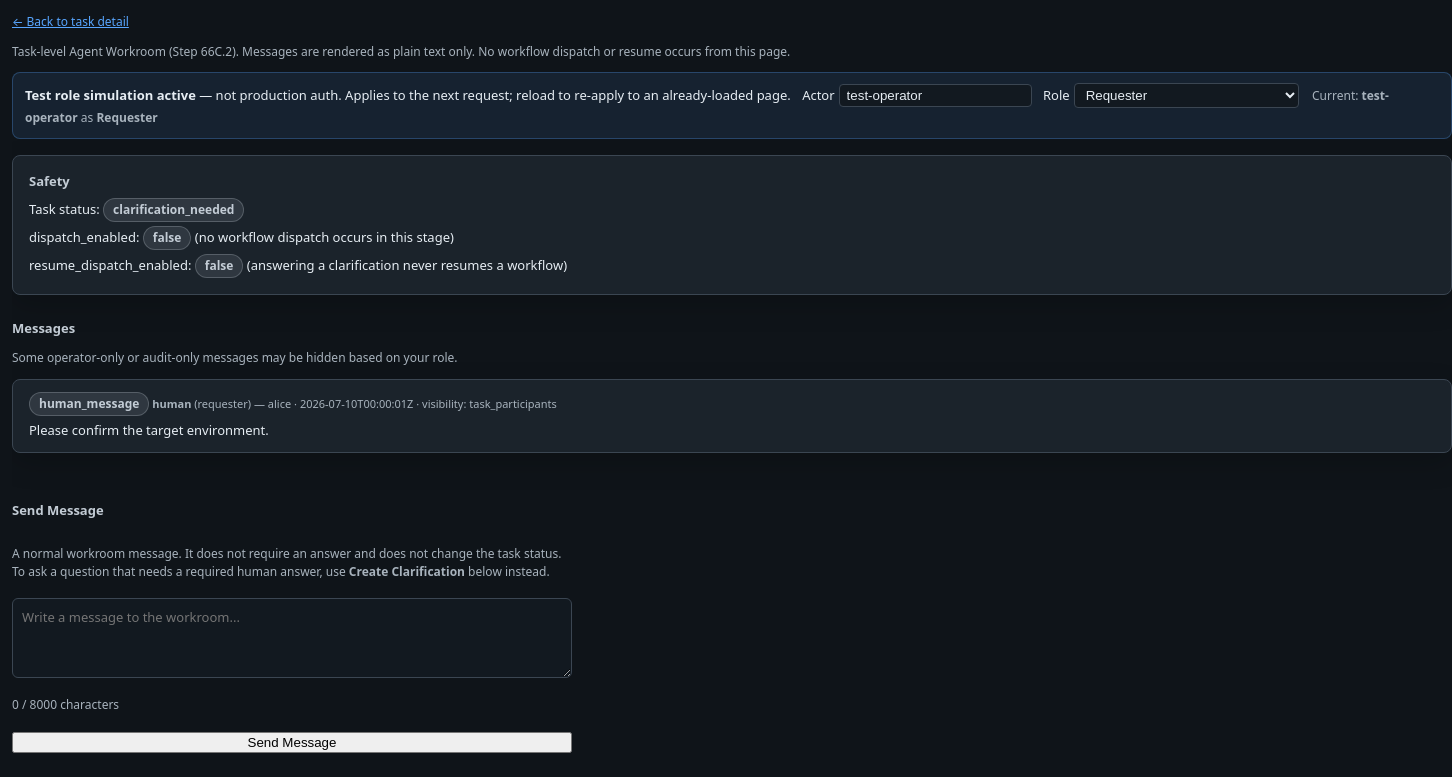
Scenario: Message composer › requires a non-empty body before posting
Expected: the element with test id "workroom-composer" is shown, [12,477,572,753]
Click the button with test id "workroom-post-message" at (292, 742), box [12,732,572,752]
(page scrolled)
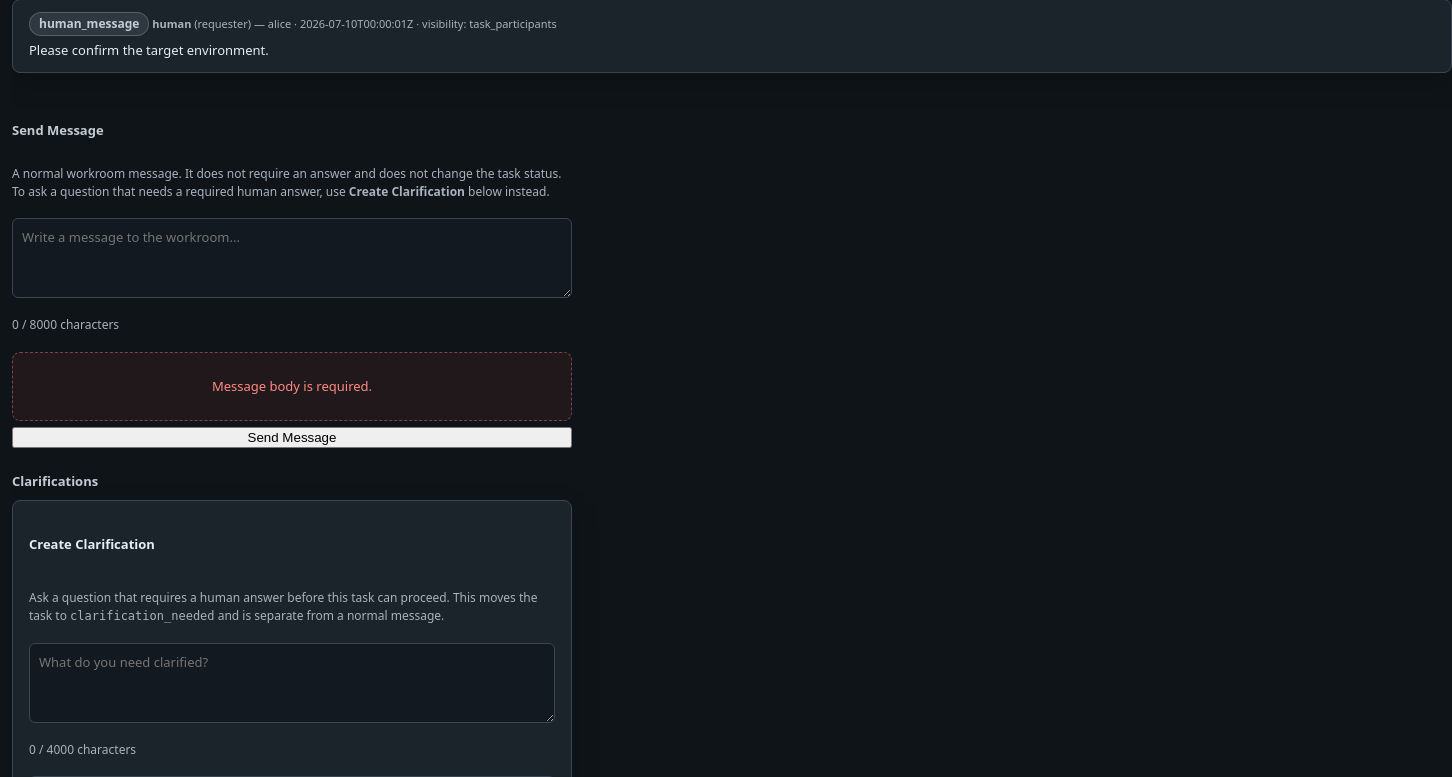
Expected: the text "Message body is required." is shown, [12,352,572,421]
